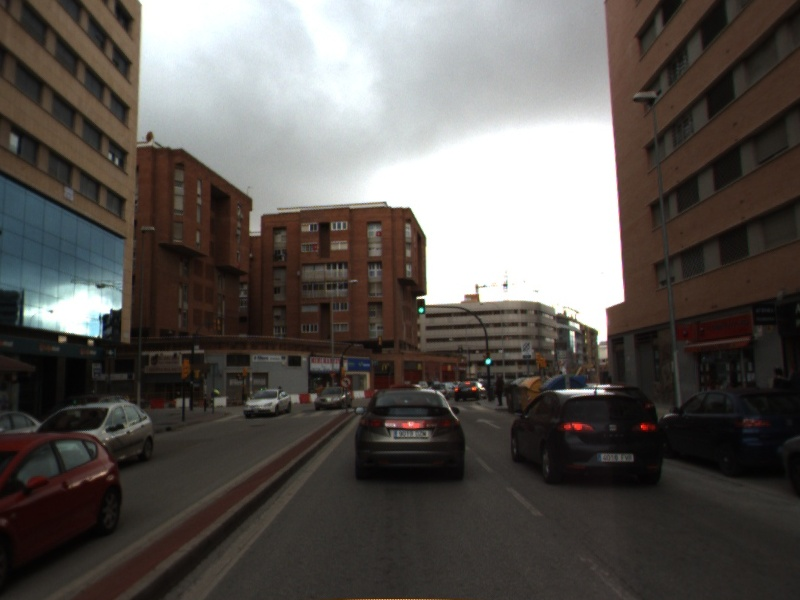STRAIGHT: (473, 415, 503, 431)
